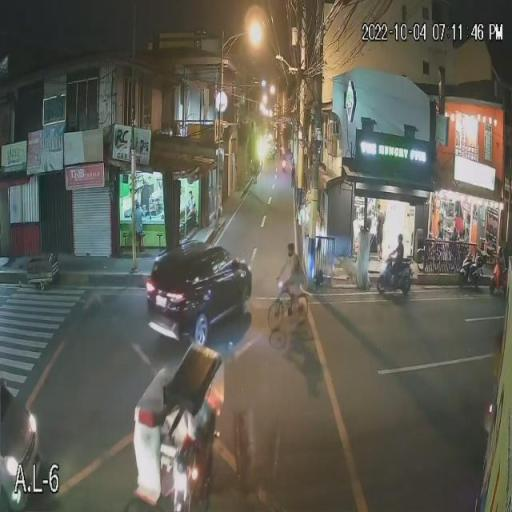helmet: (395, 232, 403, 245)
motorcycle: (372, 253, 423, 300), (458, 251, 491, 294)
rider: (393, 244, 405, 286)
